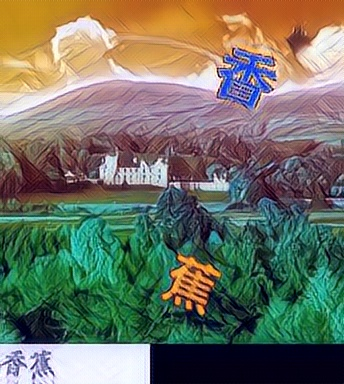BDB6: (157, 252, 220, 318)
CFE3: (215, 40, 278, 106)
